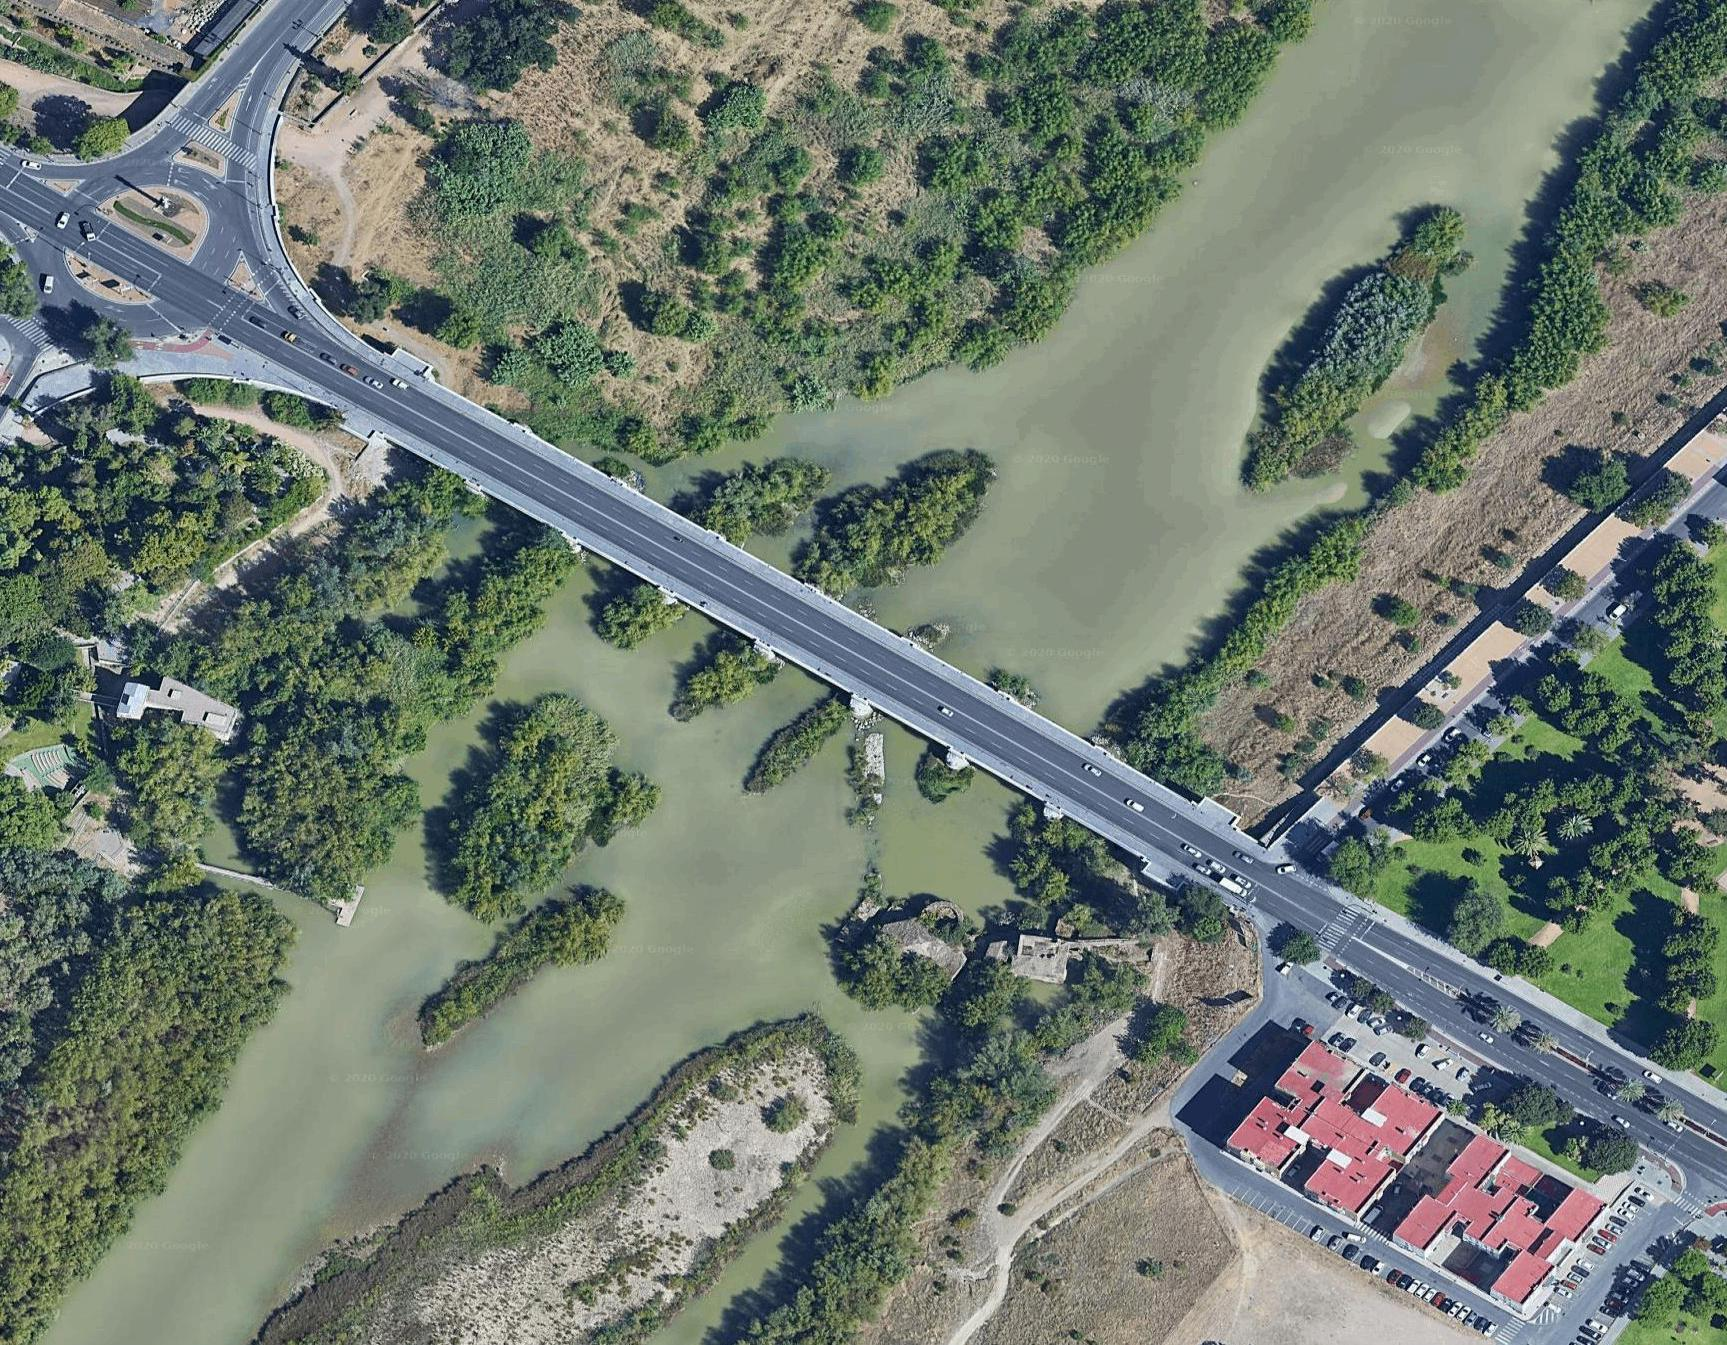bridge: (514, 401, 1199, 884)
roundabout: (25, 156, 268, 344)
